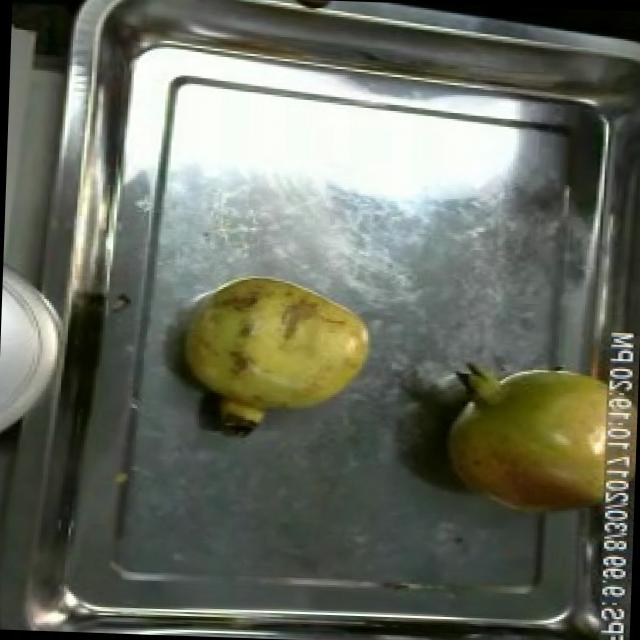fruit: (432, 344, 636, 527), (167, 265, 384, 434)
